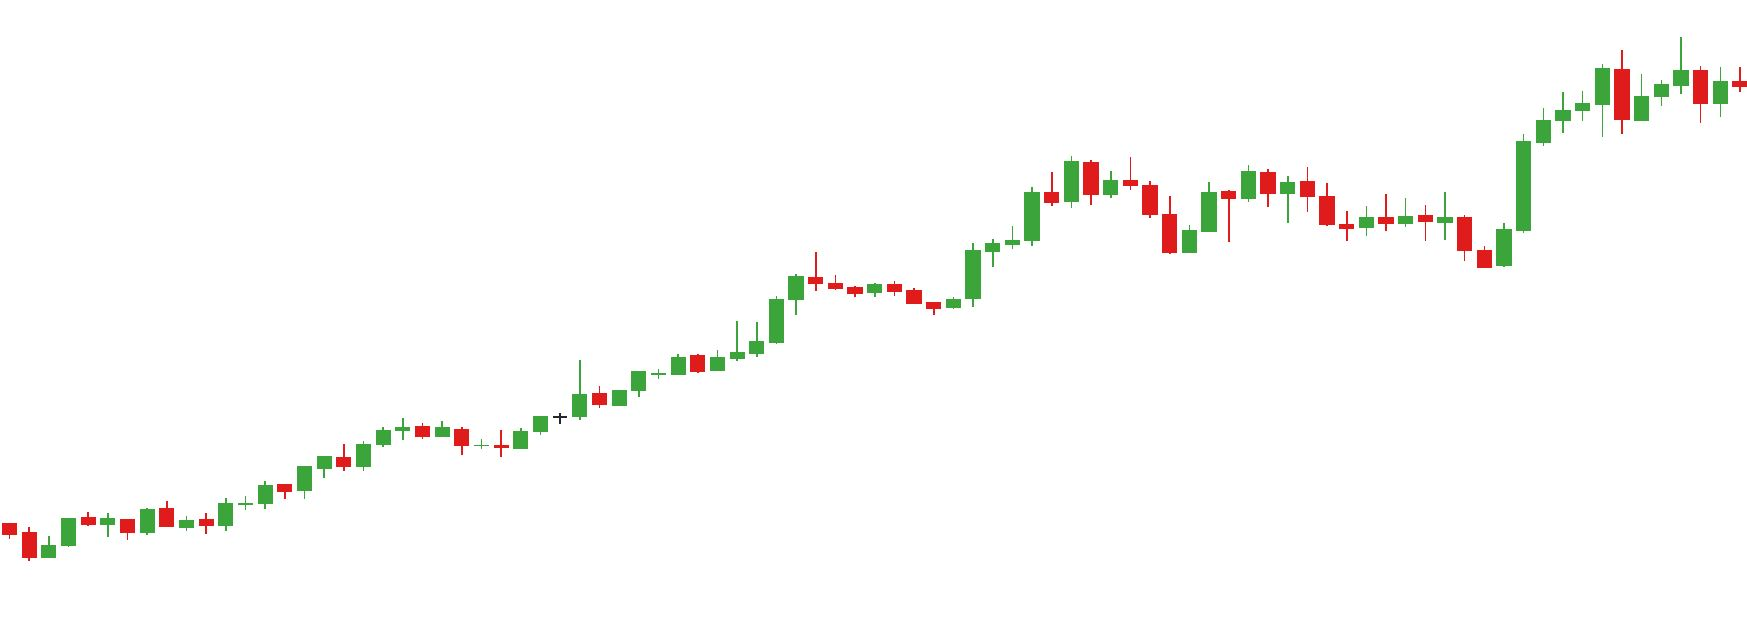buy: (1394, 191, 1513, 275)
